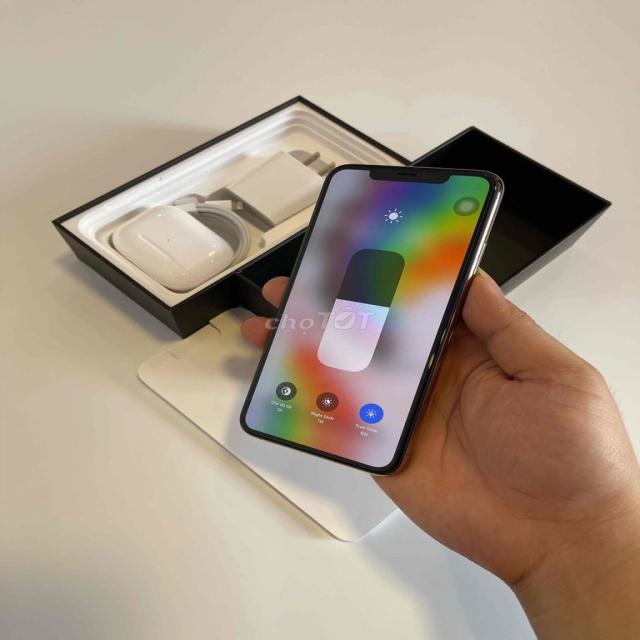gen_11: (233, 163, 511, 479)
scratch: (477, 170, 508, 191)
